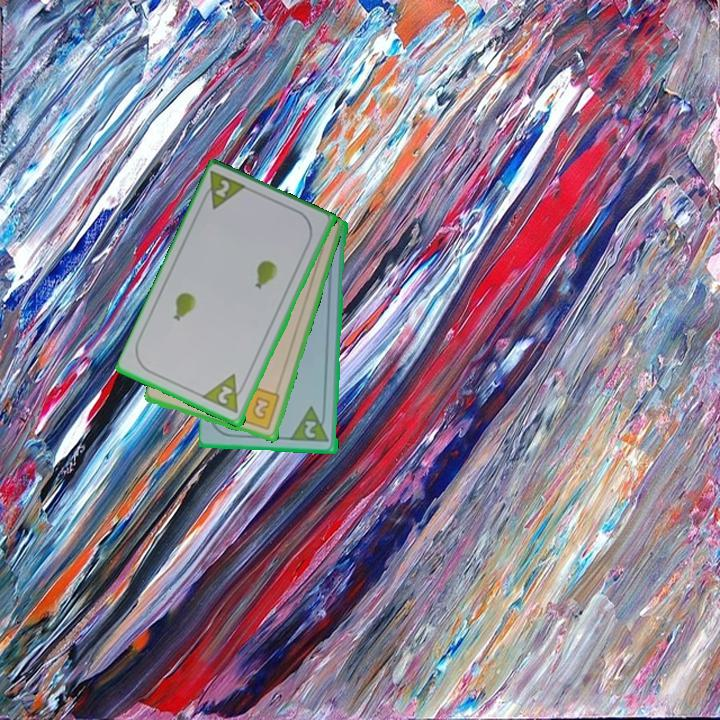2b: (233, 384, 283, 433)
2p: (197, 168, 251, 213), (200, 371, 250, 417), (301, 417, 319, 441)
